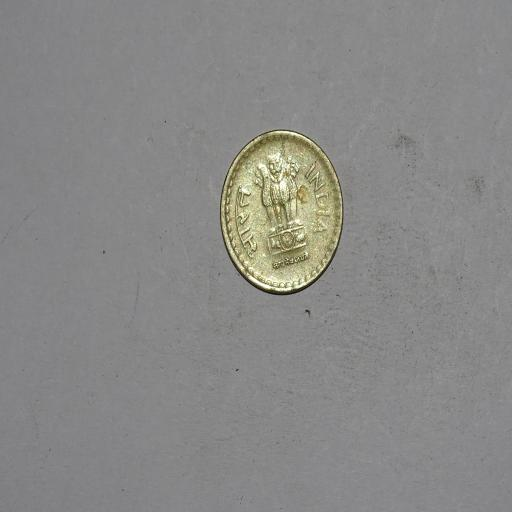rupee5: (215, 129, 347, 302)
